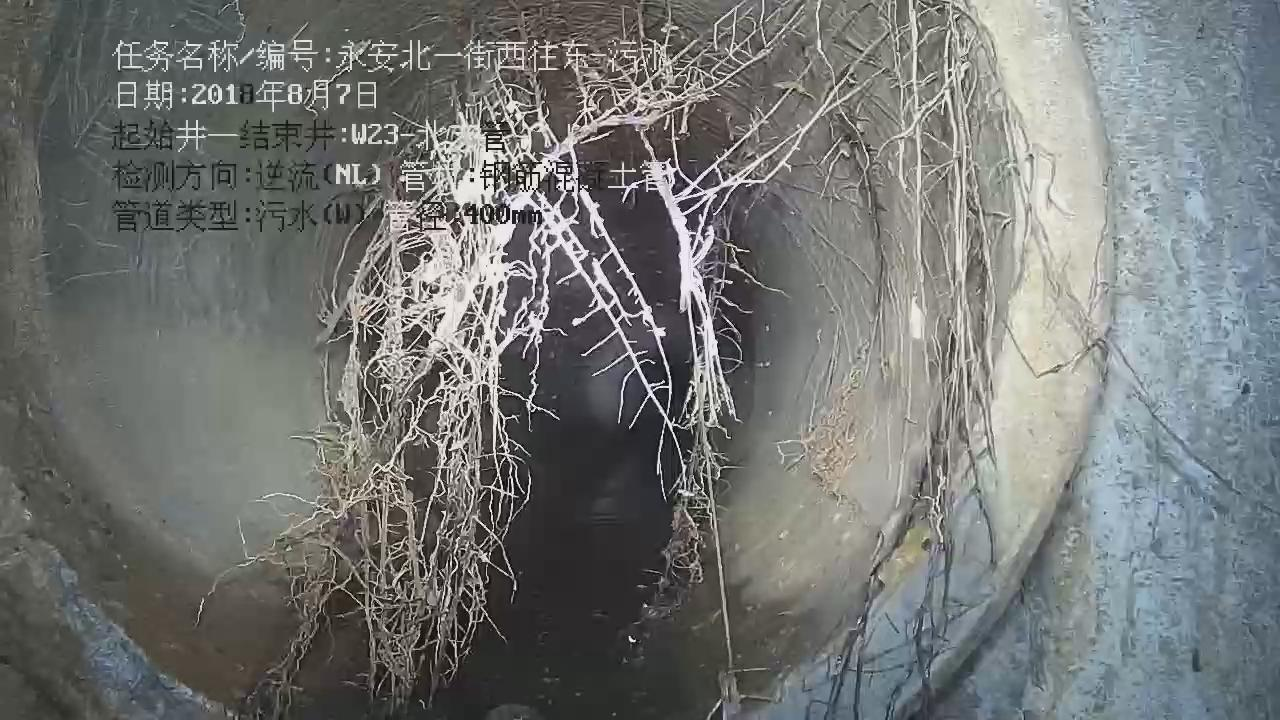SG: (261, 0, 1105, 719)
